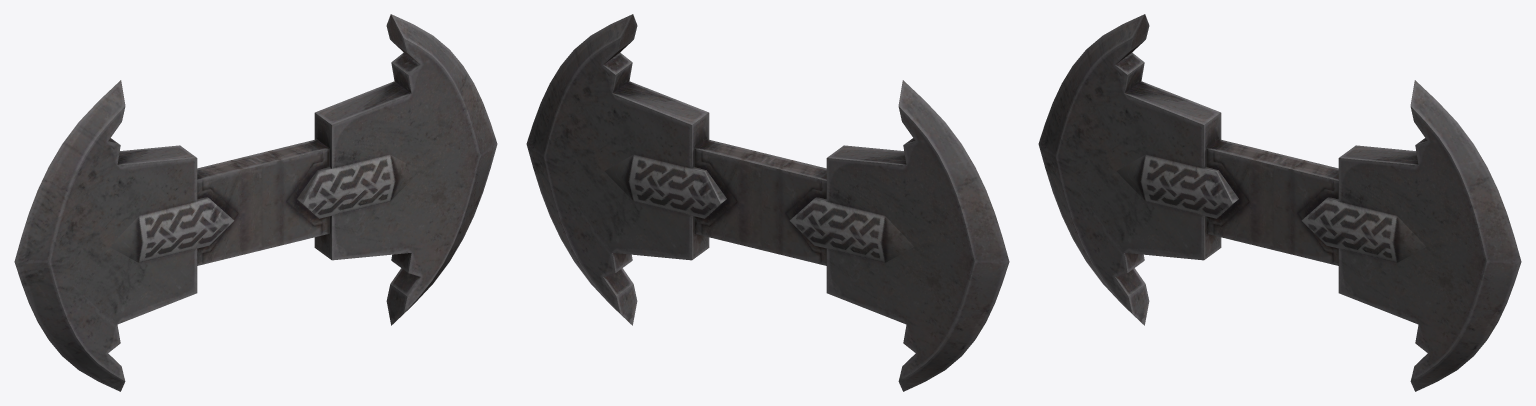
The model's file is sm_dwarf_iron_axe_blade_b.fbx.
3 views of the same model, side by side, from view 1: azimuth 30°, elevation 25°; view 2: azimuth 150°, elevation 25°; view 3: azimuth 330°, elevation 25° (orthographic).
Visible parts, largest first — view 1: sm_dwarf_iron_axe_blade_b; view 2: sm_dwarf_iron_axe_blade_b; view 3: sm_dwarf_iron_axe_blade_b.
Boxes of the visible parts, x1,y1,x2,y2 form: sm_dwarf_iron_axe_blade_b: (14, 14, 497, 391); sm_dwarf_iron_axe_blade_b: (526, 14, 1009, 391); sm_dwarf_iron_axe_blade_b: (1038, 14, 1521, 391).
Size of the model in its own units: 0.6504 by 0.0603 by 0.4015.
Materials: 1 (1 with a texture image).
